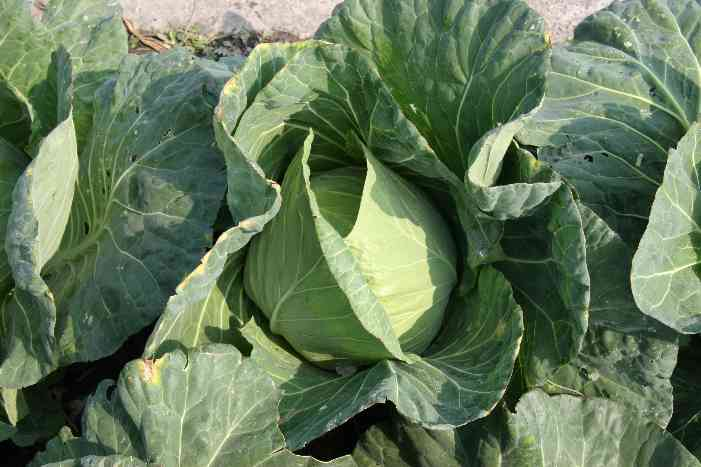cabbage: (250, 128, 460, 373)
